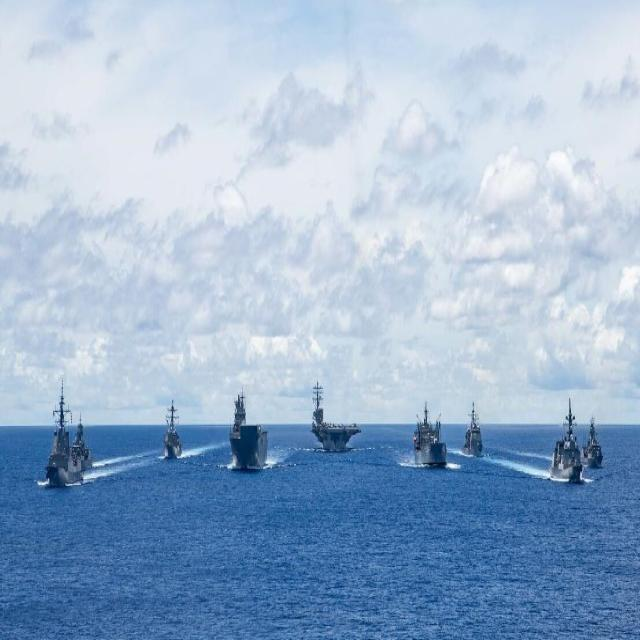navalvessels: (211, 384, 266, 468), (302, 383, 362, 448), (42, 381, 76, 489), (552, 396, 583, 494), (68, 408, 100, 481), (408, 408, 443, 473), (153, 404, 184, 465), (588, 398, 608, 480), (462, 395, 480, 467)
